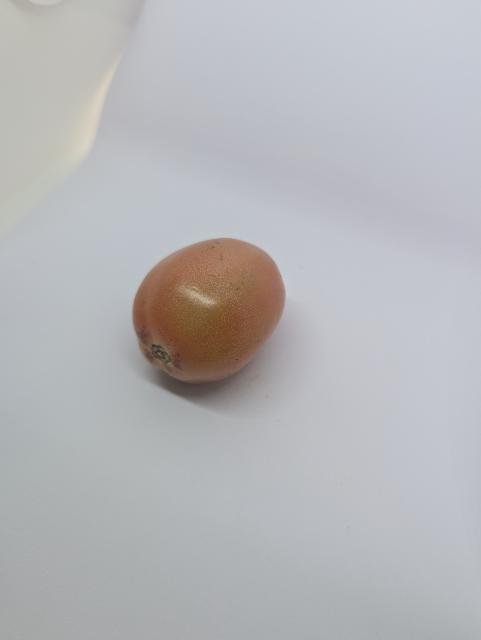turning: (130, 237, 294, 386)
